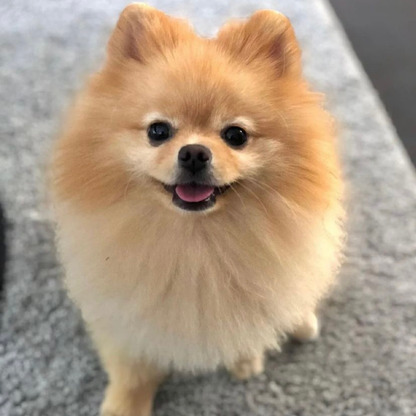Pomeranian: (61, 7, 365, 388)
